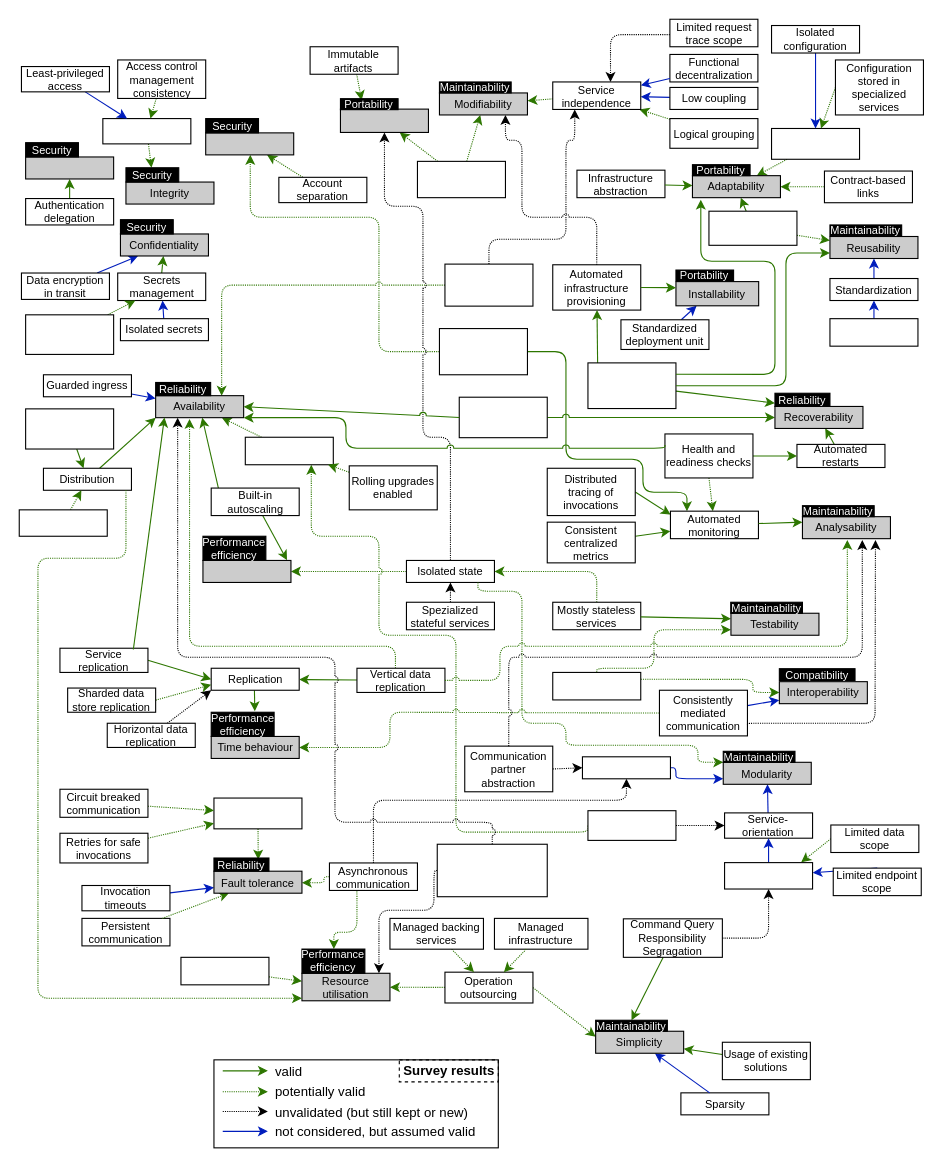
Some shapes in this 943 by 1167 pixel diagram are drawn without their labels. The centre of each missing label's shape, as x and y in pixels:
Access restriction: pixel 146 130
Accountability: pixel 249 143
Addressing abstraction: pixel 460 179
API-based communication: pixel 596 685
Authenticity: pixel 69 167
Automated infrastructure maintenance: pixel 502 417
Autonomous fault handling: pixel 257 813
Backing service decentralization: pixel 488 284
Cloud vendor abstraction: pixel 752 227
Component similarity: pixel 873 332
Configuration mangement: pixel 815 143
Consistent centralized logging: pixel 482 351
Dynamic scheduling: pixel 224 970
Elasticity: pixel 246 570
Enforcement of appropriate resource boundaries: pixel 491 870
Limited functional scope: pixel 768 875
Loose coupling: pixel 625 767
Physical data distribution: pixel 62 522
Physical services distribution: pixel 69 428
Replaceabiltiy: pixel 383 120
Seamless upgrades: pixel 288 450
Secrets stored in specialized services: pixel 69 334
Separation by gateways: pixel 631 825
Use infrastructure as code: pixel 631 385
